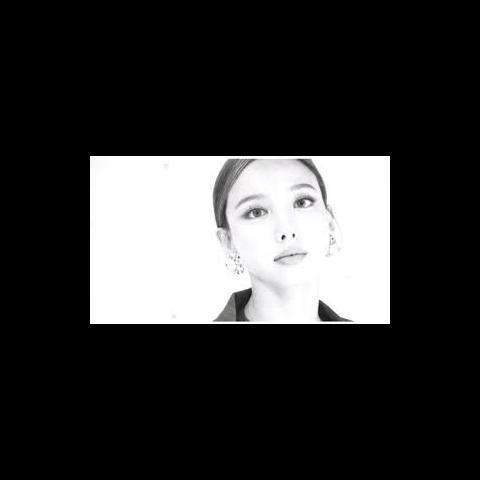opened: (233, 187, 323, 226)
